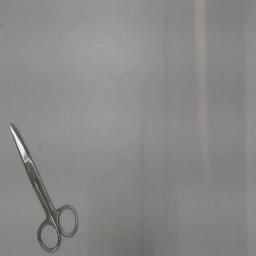Dressing Scissors: (2, 115, 82, 255)
